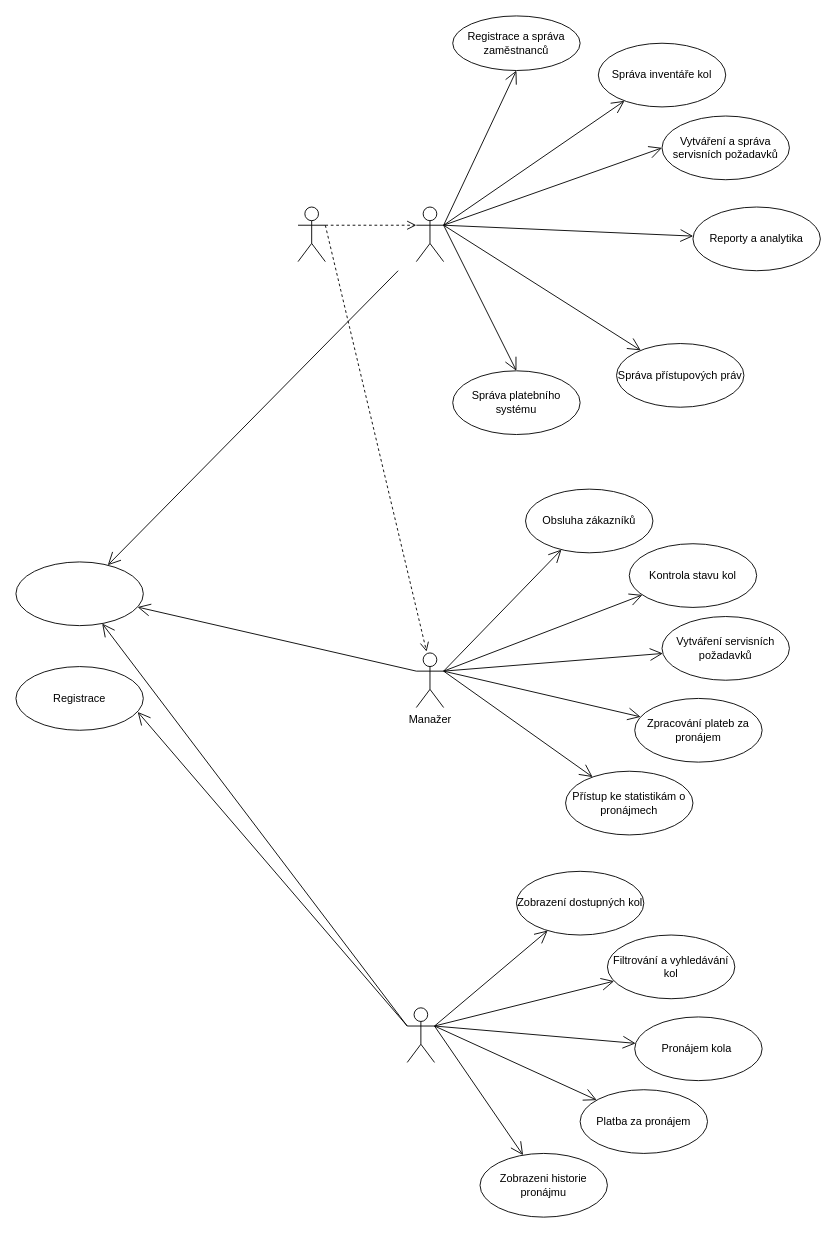
Some shapes in this 836 by 1233 pixel diagram are drawn without their labels. The box of each missing label's shape, as (x1, y1, x2, y2) in pixels:
Administrátor: (415, 206, 444, 262)
Přihlášení: (15, 561, 143, 626)
Uživatel: (406, 1007, 435, 1062)
Zaměstnanec: (297, 206, 325, 262)
